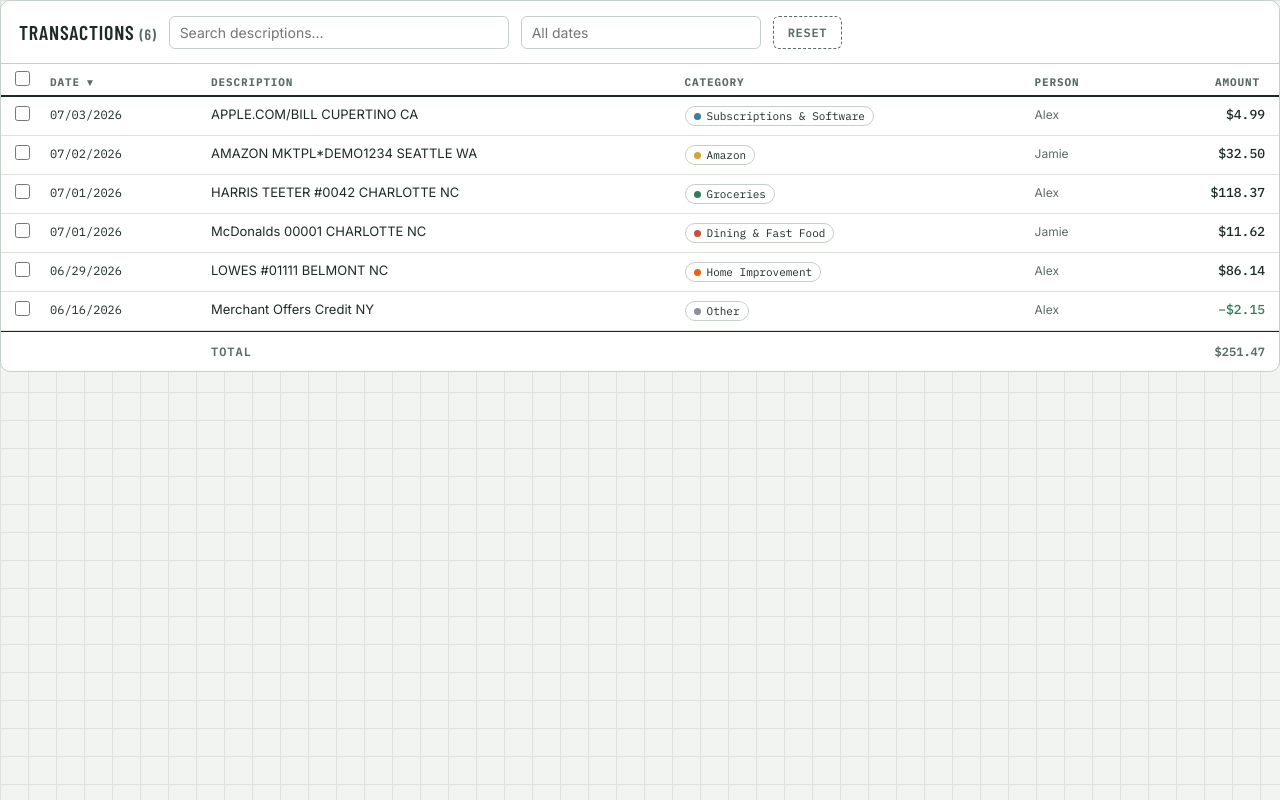
Test case: table keyboard shortcuts › does not act on letters typed into the search field
Click the field labelled "Search description". click: (339, 32)
box: [169, 16, 509, 48]
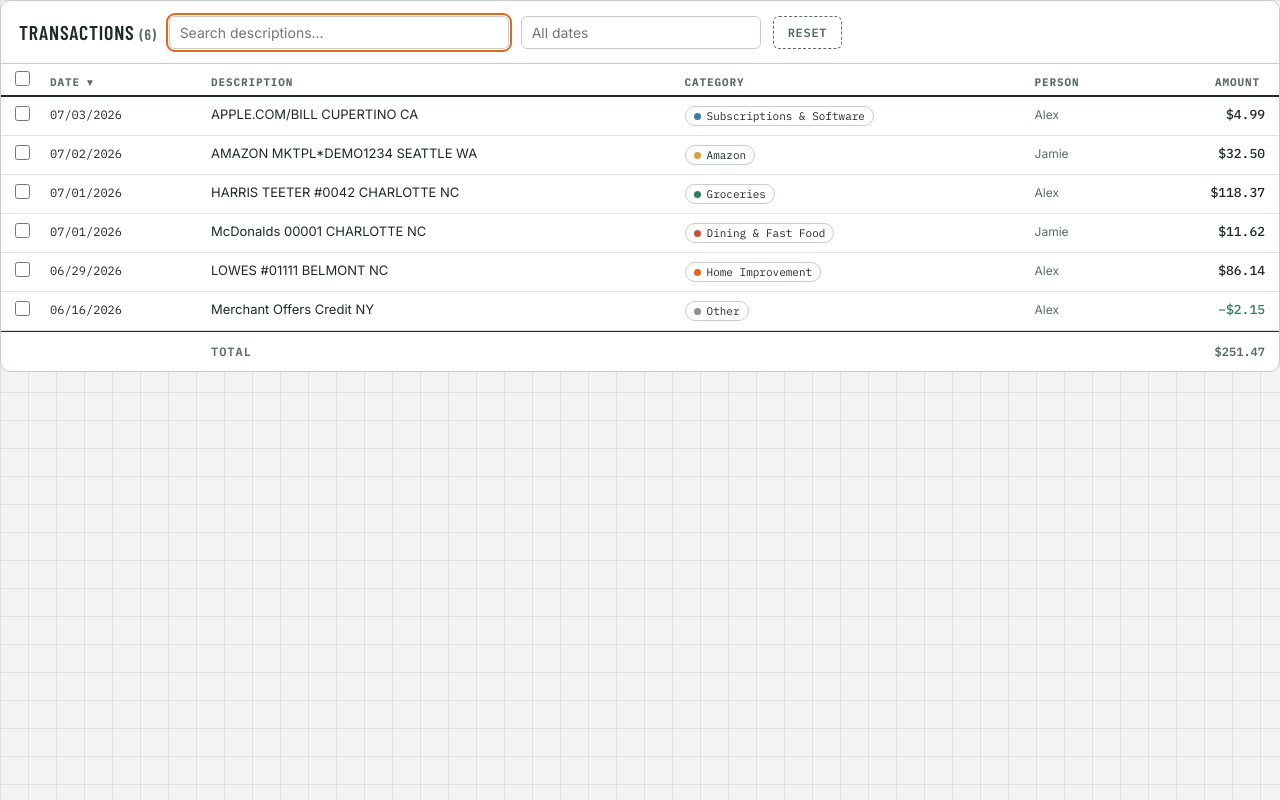
Type keys "acrl ?/"
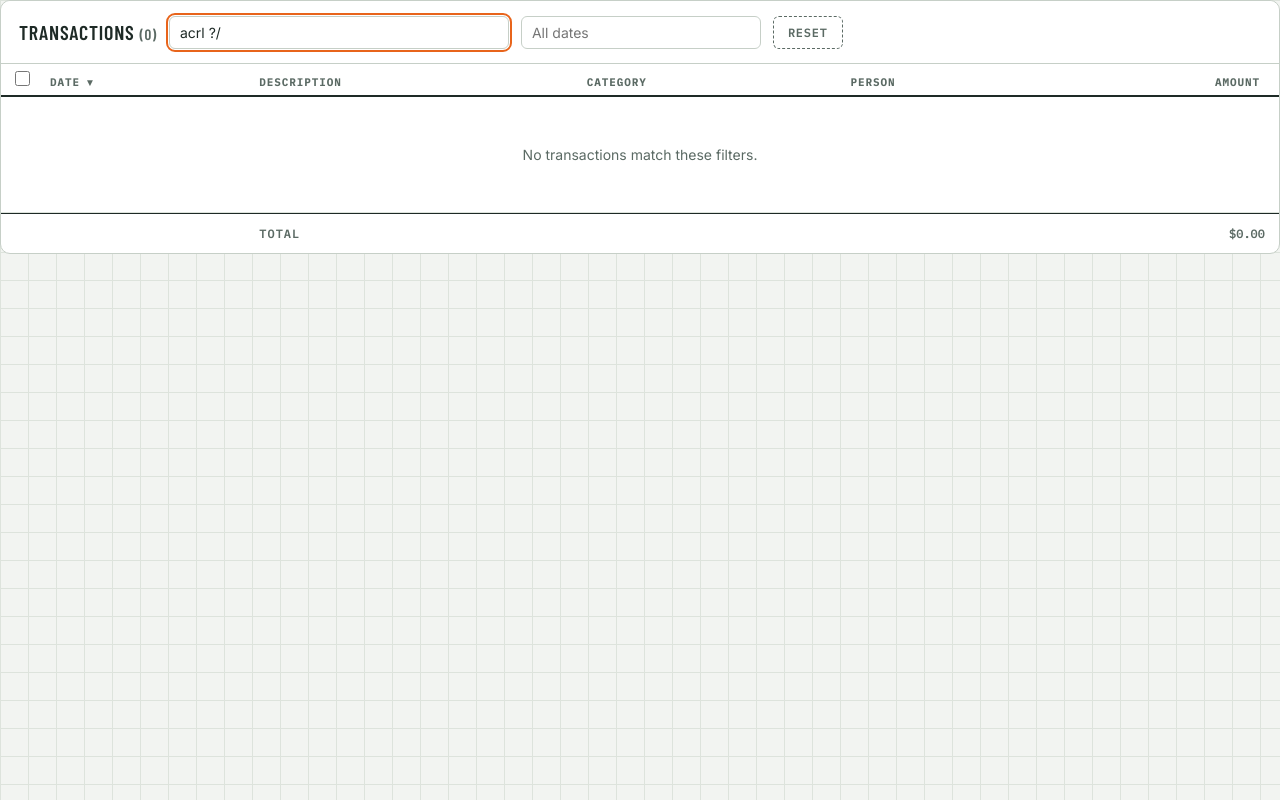
Now the field named "Search description" holds "acrl ?/", box [169, 16, 509, 48]
